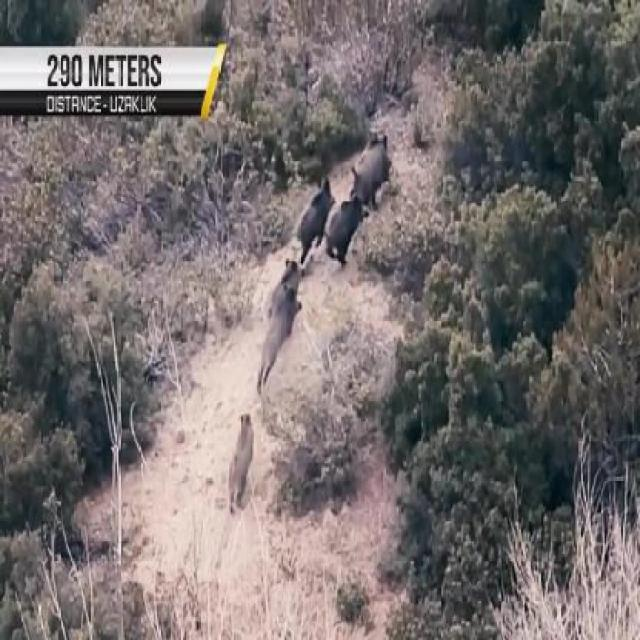pig: (221, 389, 274, 543)
